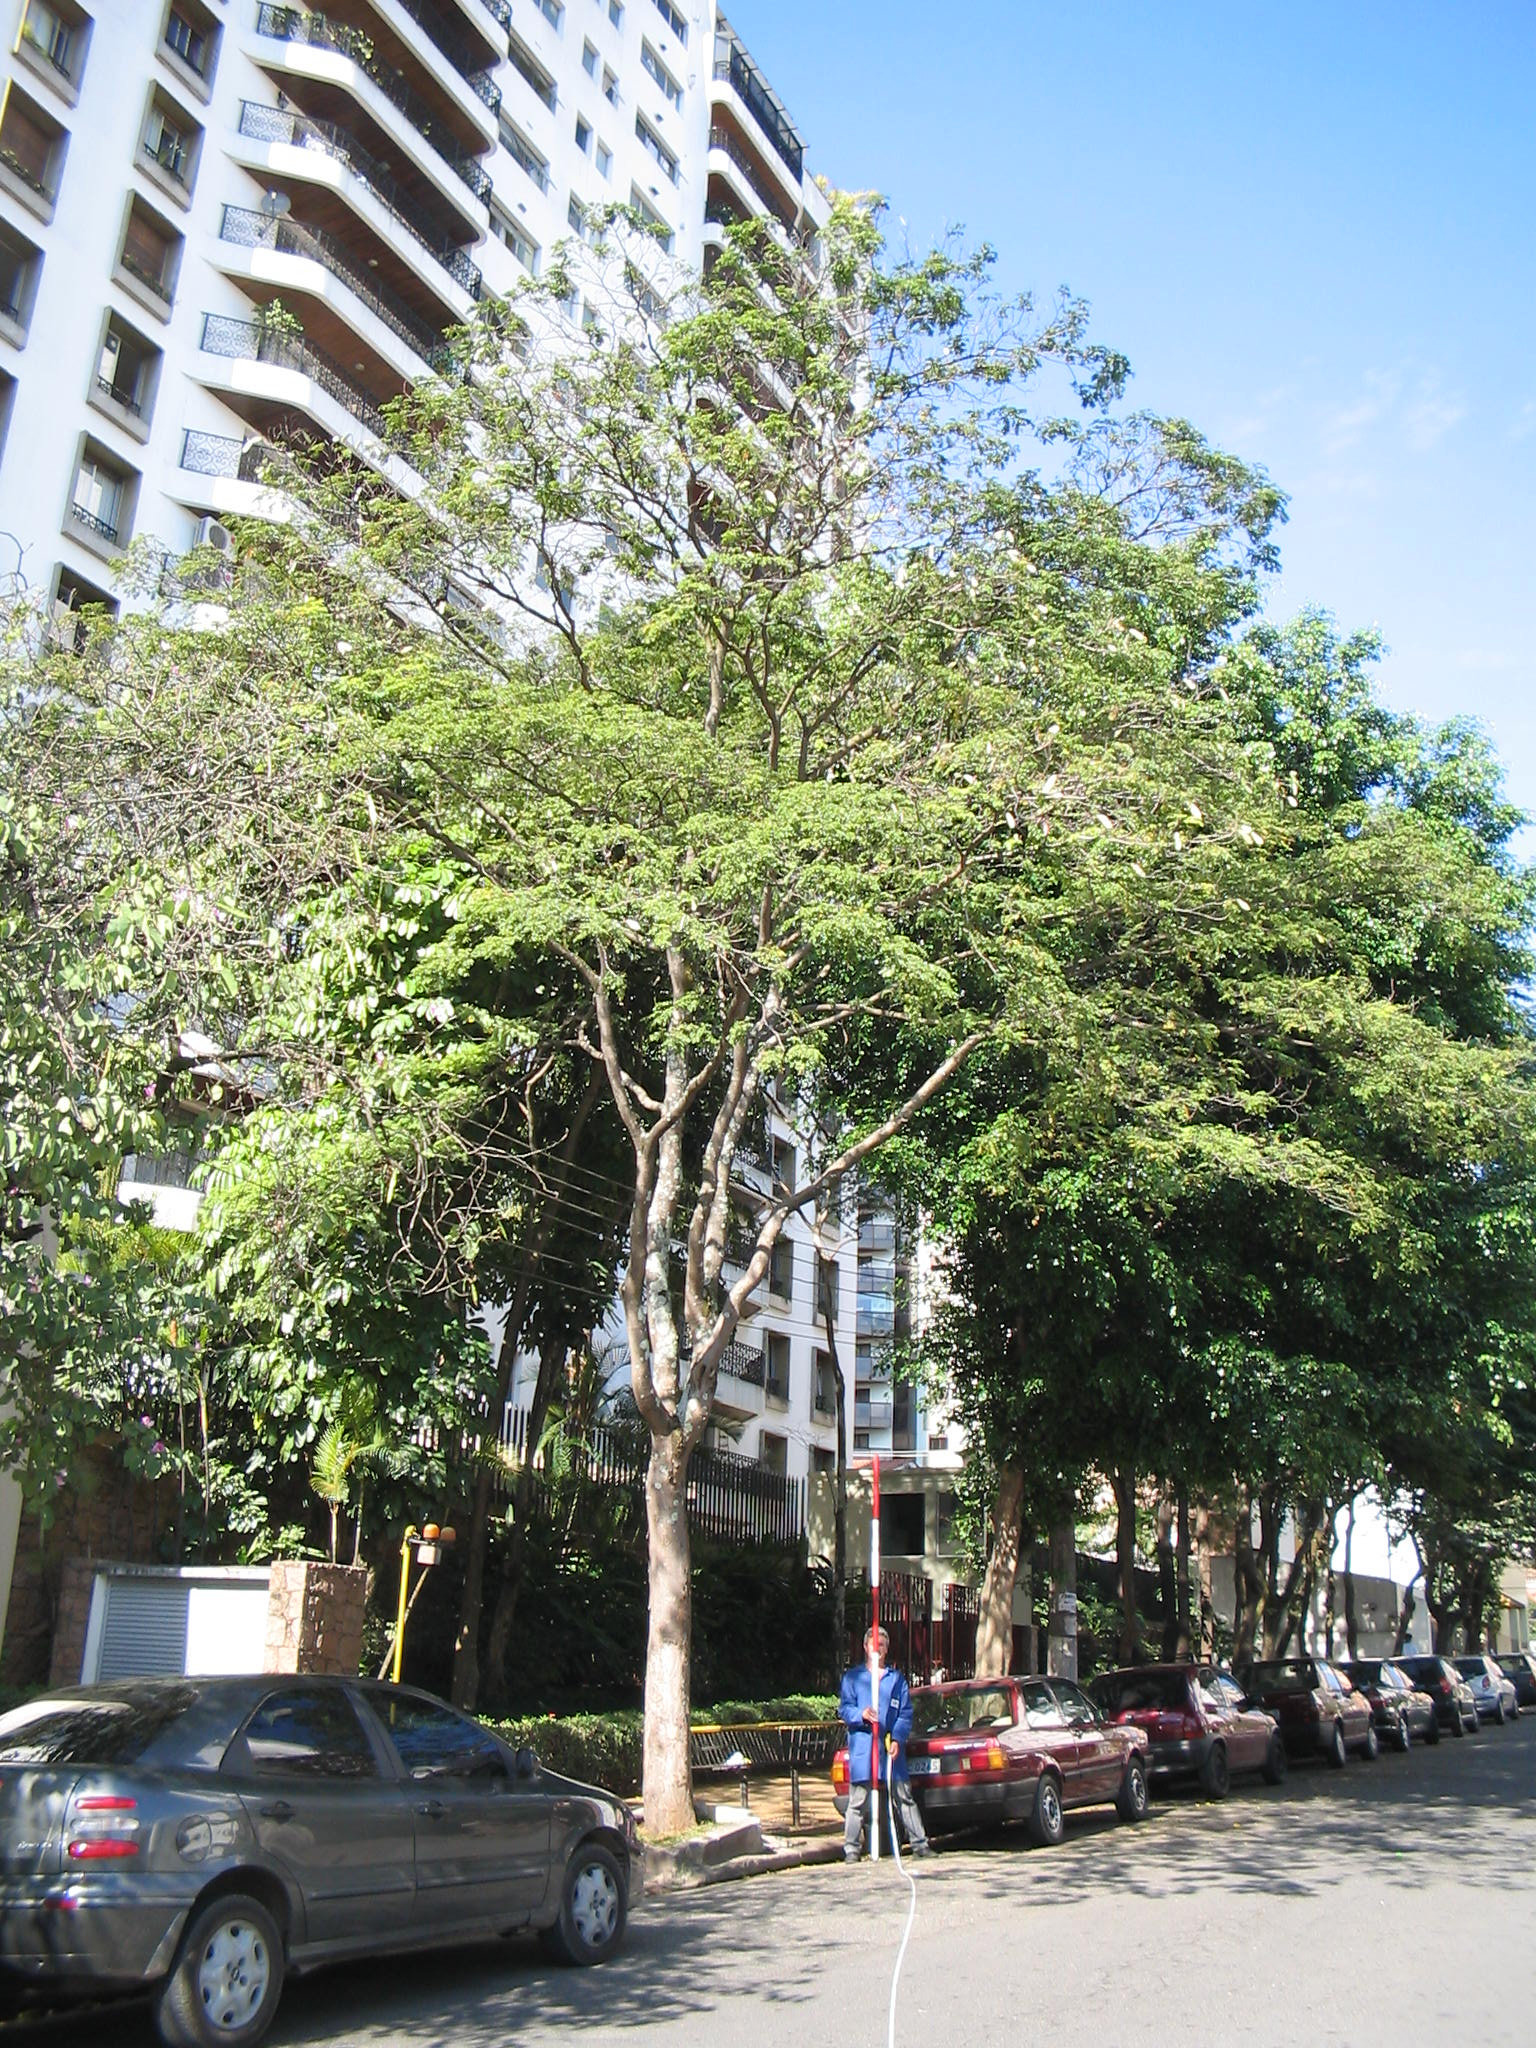stem: (600, 1421, 741, 1825)
stick: (836, 1455, 915, 1861)
